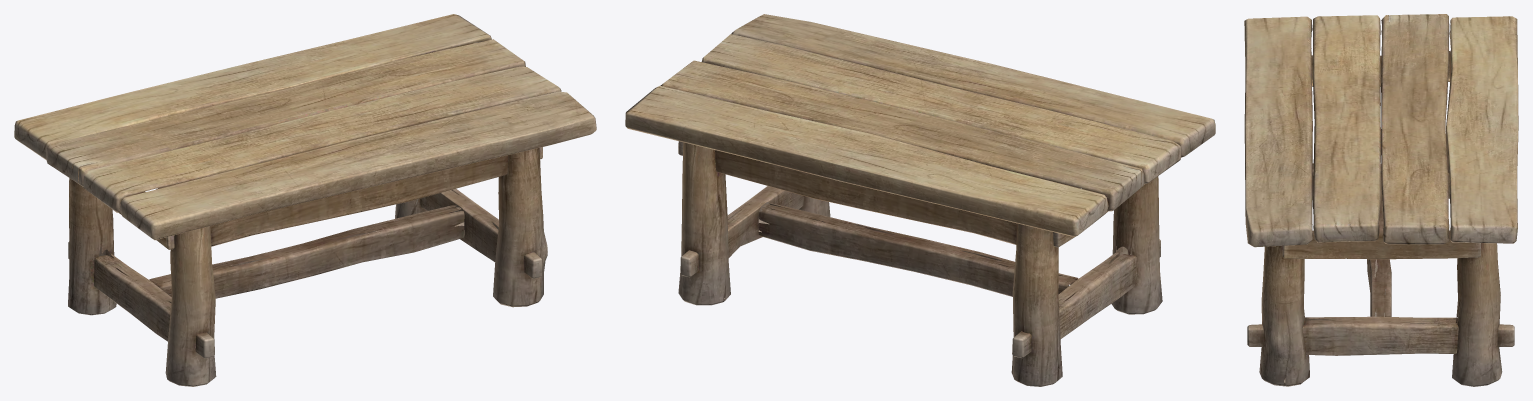
3 views of the same model, side by side, from view 1: azimuth 30°, elevation 25°; view 2: azimuth 150°, elevation 25°; view 3: azimuth 270°, elevation 25° (orthographic). The views are drawn at different scales.
Parts seen in each view (by area): view 1: SM_Wooden_Table_02v1_LOD0; view 2: SM_Wooden_Table_02v1_LOD0; view 3: SM_Wooden_Table_02v1_LOD0.
Boxes of the visible parts, x1=… form: SM_Wooden_Table_02v1_LOD0: x1=14, y1=14, x2=596, y2=386; SM_Wooden_Table_02v1_LOD0: x1=625, y1=14, x2=1215, y2=386; SM_Wooden_Table_02v1_LOD0: x1=1244, y1=14, x2=1518, y2=386.
Size of the model in its own units: 2.24 by 0.8932 by 1.22.
1 material, 1 textured.
